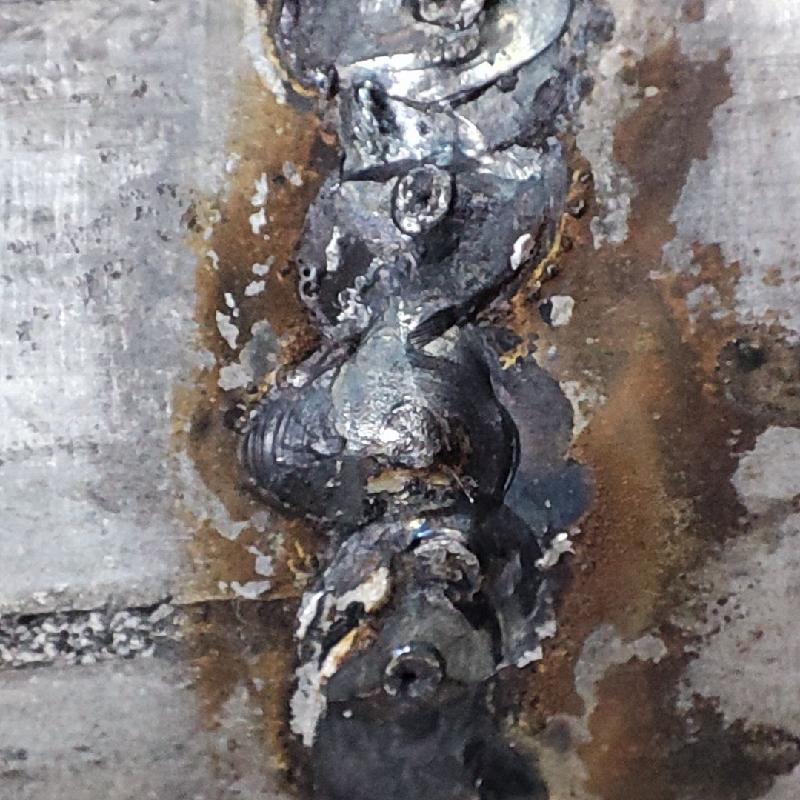Surface_pores: (394, 172, 445, 225), (389, 655, 434, 702)
wrong_size: (267, 0, 547, 796)
